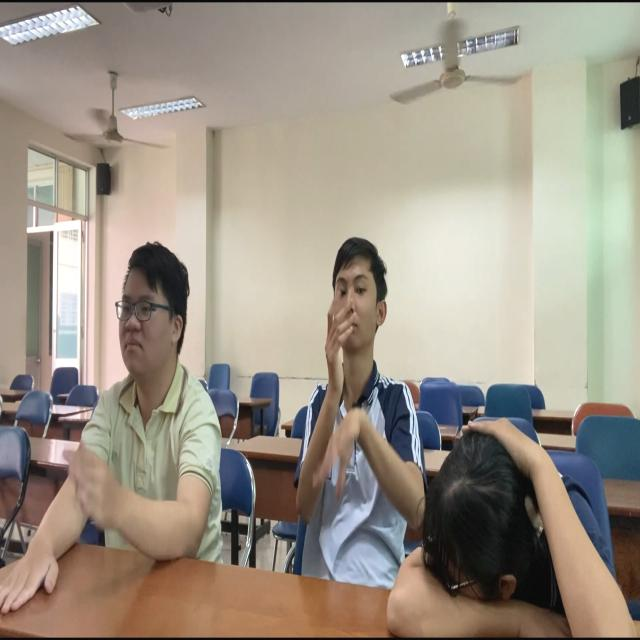sleep: (383, 415, 635, 640)
